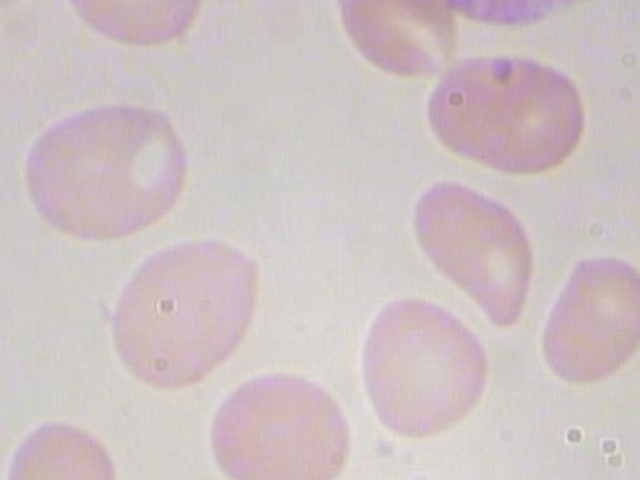RBC: (4, 92, 205, 242), (89, 228, 265, 395), (415, 50, 601, 176), (347, 290, 489, 446), (398, 176, 539, 332), (206, 367, 356, 480), (532, 240, 640, 395), (332, 0, 462, 83), (0, 414, 135, 480), (61, 0, 209, 48)
WBC: (380, 0, 640, 25)
